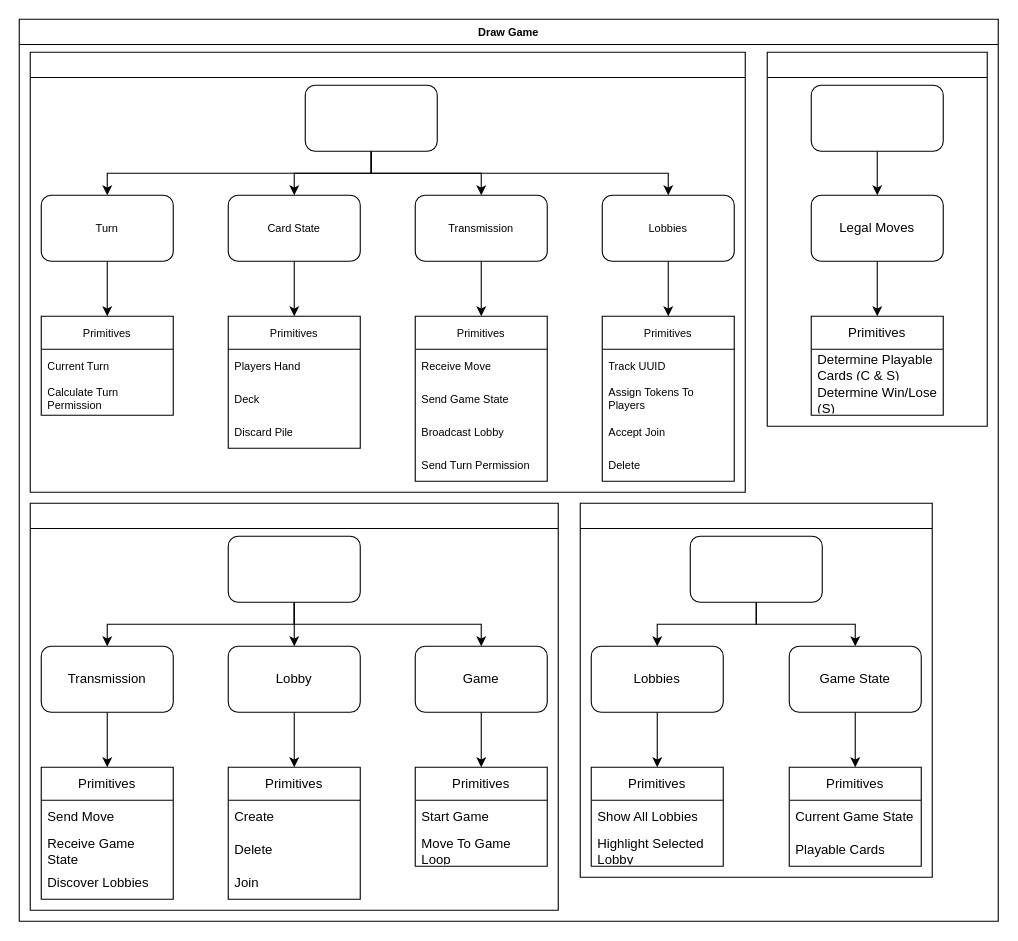
Some shapes in this 1018 by 941 pixel diagram are drawn without their labels. The box of each missing label's shape, as (x1, y1, x2, y2) in pixels:
Client: (227, 535, 360, 602)
Client Function: (29, 502, 558, 910)
Game Engine: (810, 84, 943, 151)
Game Engine Function: (766, 51, 987, 426)
Render Function: (579, 502, 932, 877)
Renderer: (689, 535, 822, 602)
Server: (304, 84, 437, 151)
Server Function: (29, 51, 745, 492)
